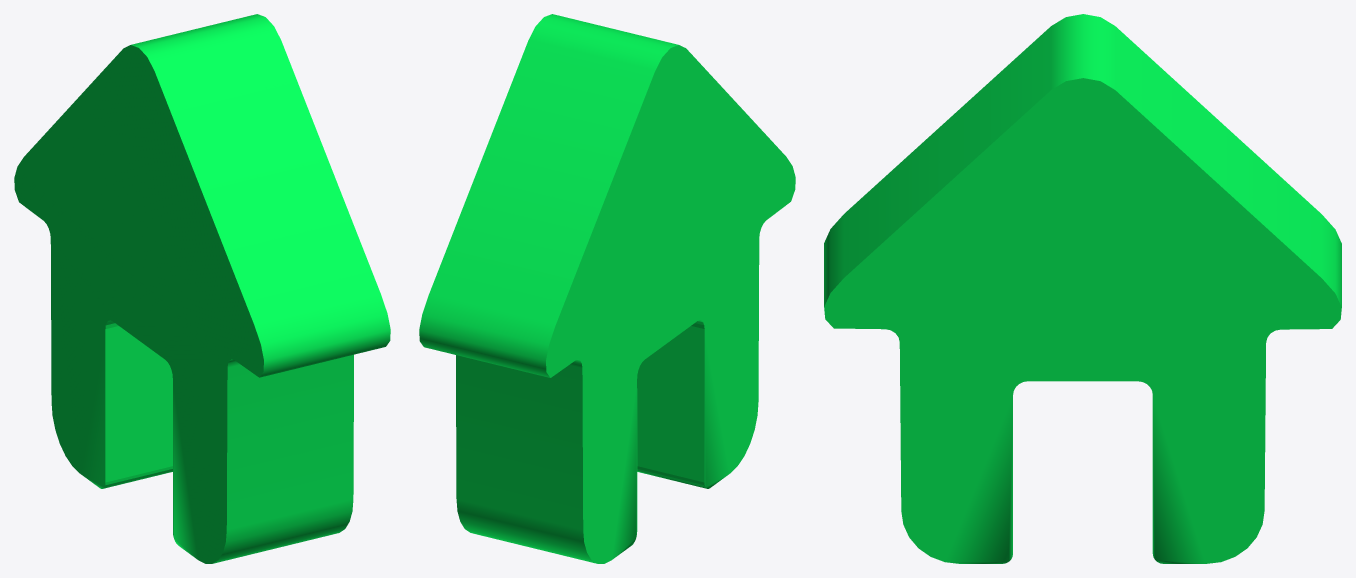
File: house_realtor.glb
The picture shows the model from 3 angles, left to right: view 1: azimuth 30°, elevation 25°; view 2: azimuth 150°, elevation 25°; view 3: azimuth 270°, elevation 25°; orthographic projection. The views are drawn at different scales.
Parts seen in each view (by area): view 1: Plane.001; view 2: Plane.001; view 3: Plane.001.
Boxes of the visible parts, x1,y1,x2,y2 form: Plane.001: (14,14,390,563); Plane.001: (419,14,795,563); Plane.001: (824,14,1341,563).
Size of the model in its own units: 0.5001 by 1.77 by 1.71.
